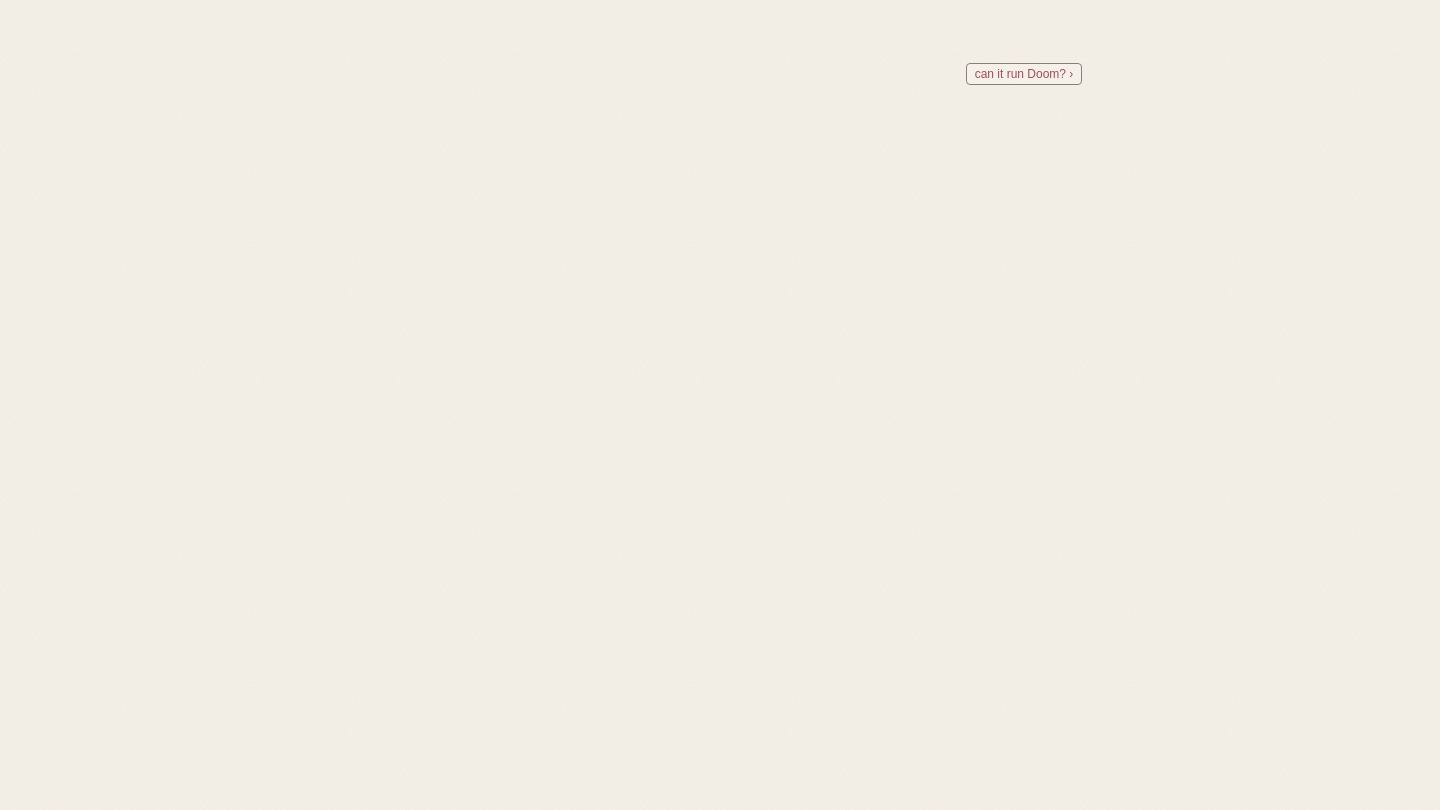
Scenario: LaptopScreen terminal › prints the site name for whoami
Click the button with aria-label "Can it run Doom? Open the laptop terminal". click: coordinates (1024, 74)
box: [454,34,1108,88]
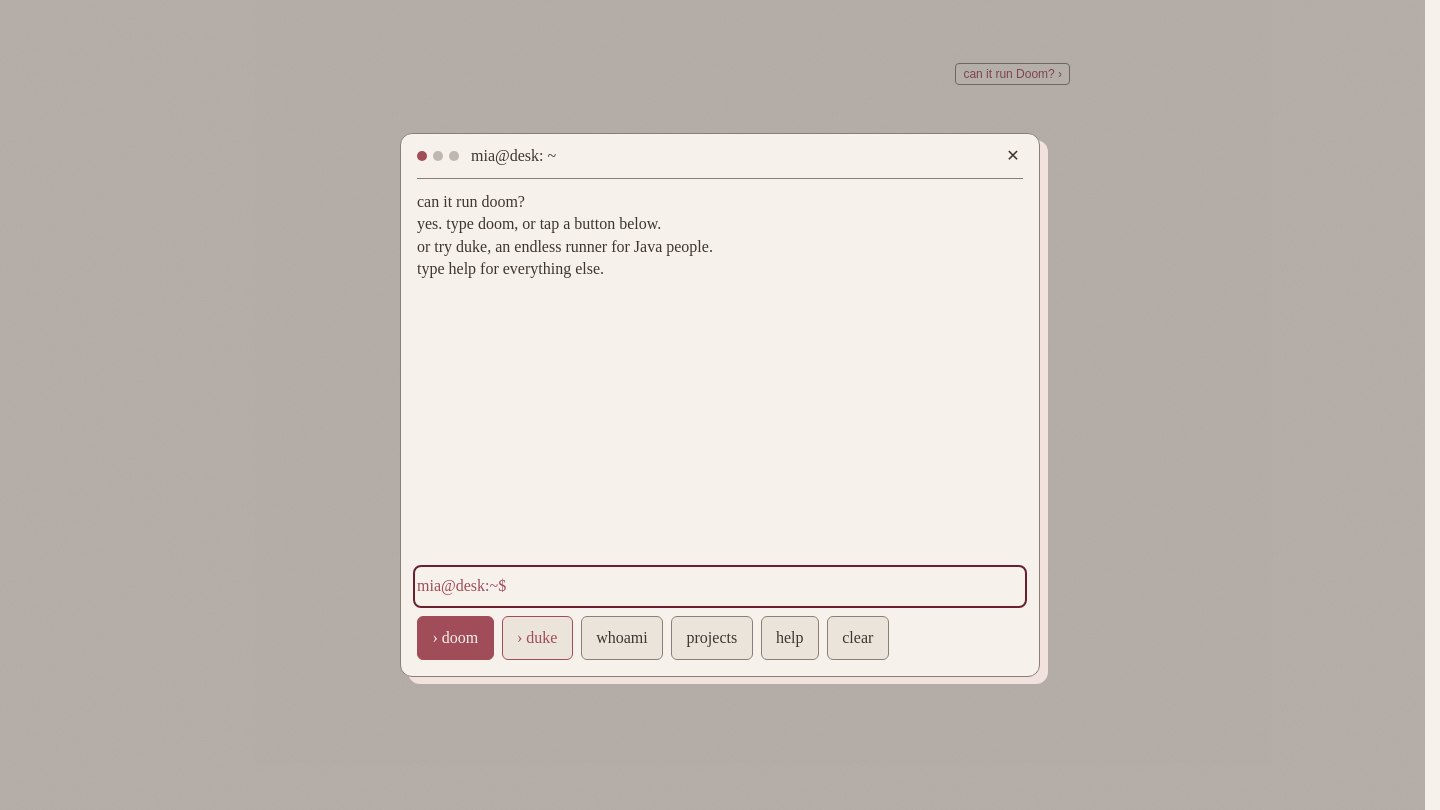
Type "whoami" into the field named "Command". click: coordinates (769, 586)
box: [514,575,1023,598]
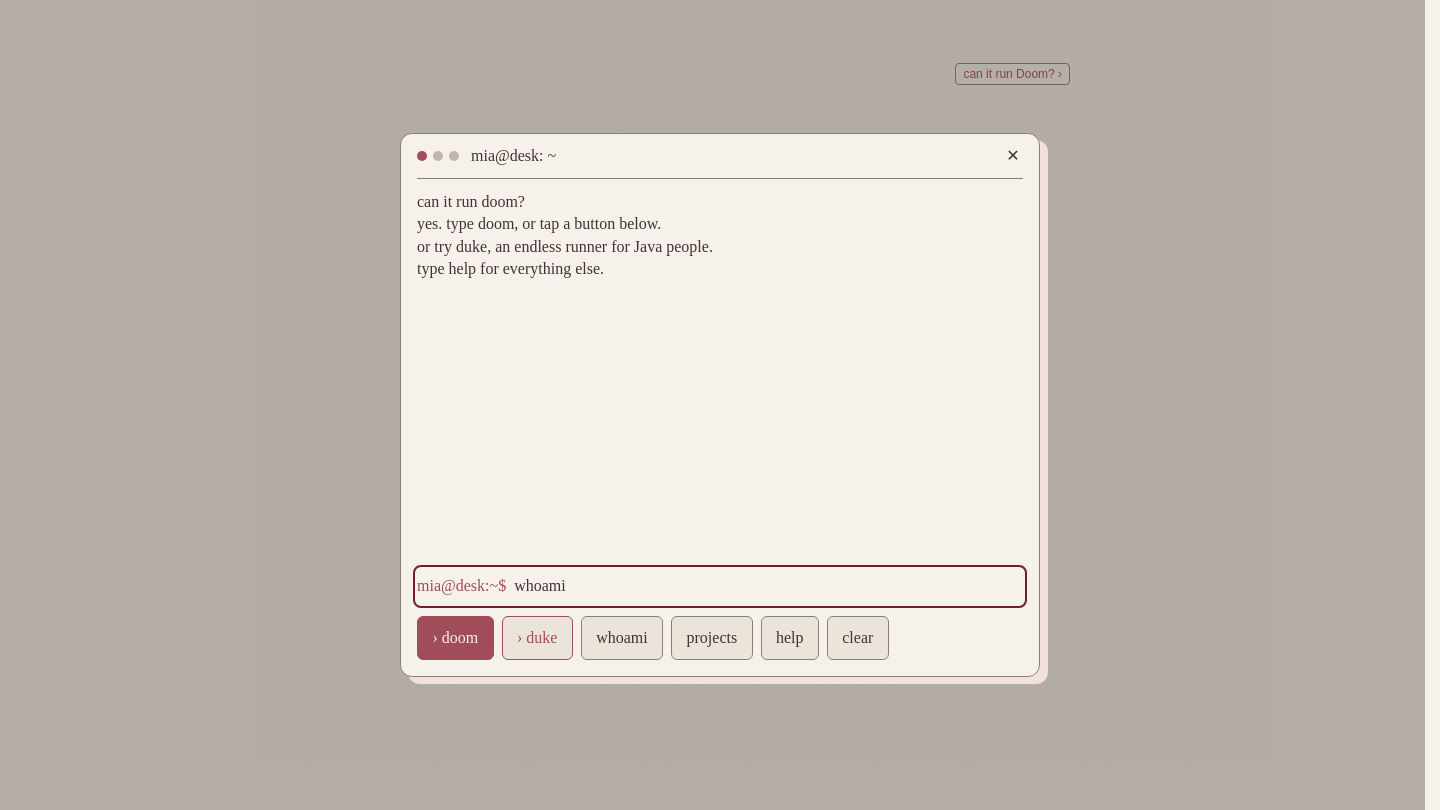
Submit the form named "Command", box [417,569,1023,604]
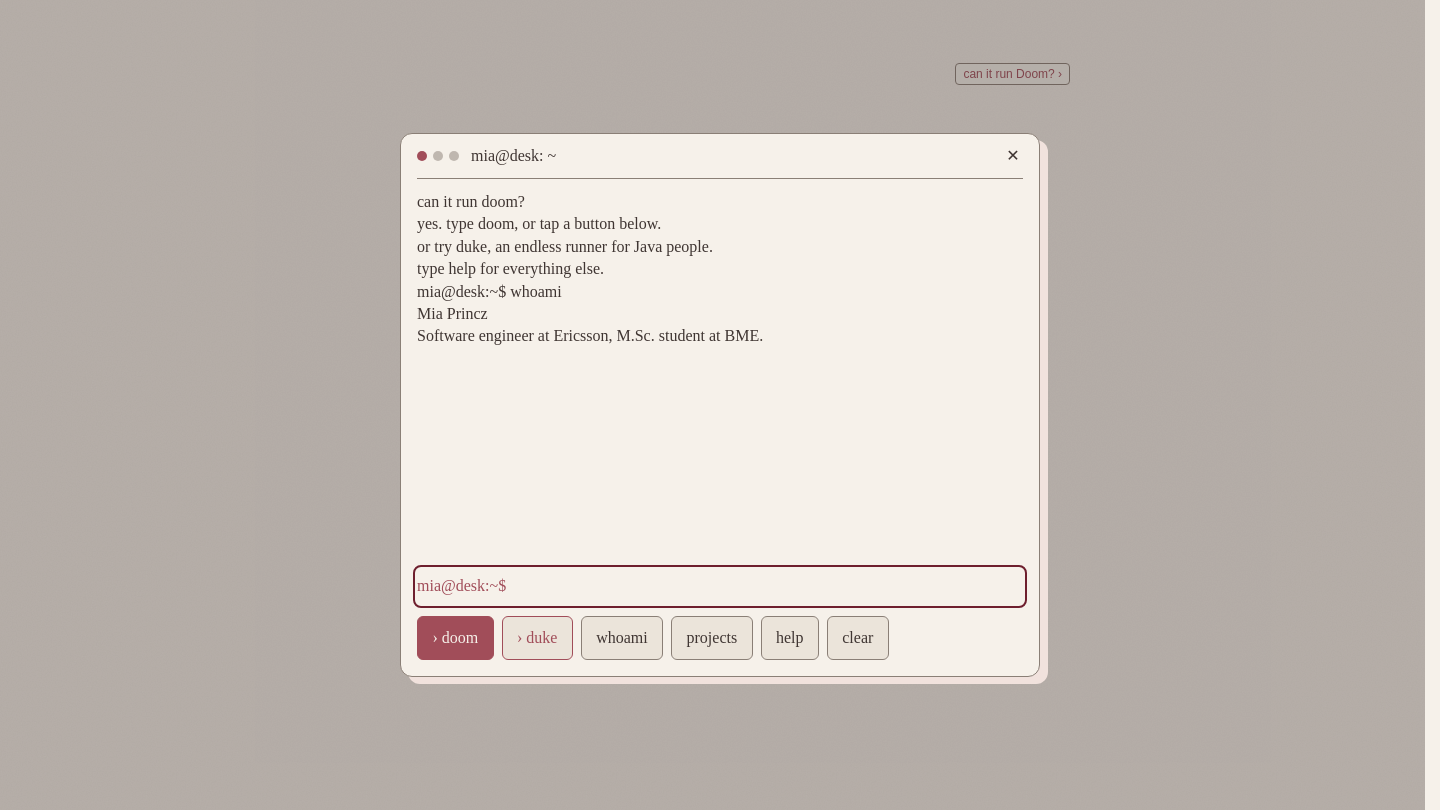
Now the list shows "Mia Princz", box [417,305,488,322]
Now the field named "Command" is empty, box [514,575,1023,598]
